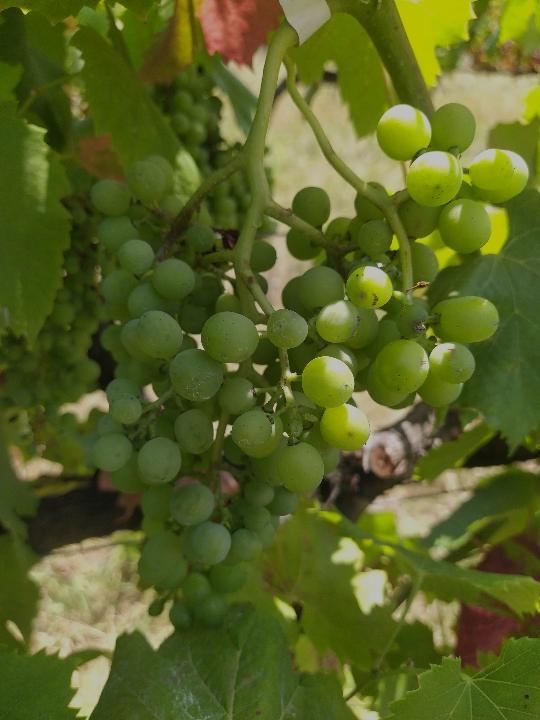grape: (85, 98, 533, 634)
